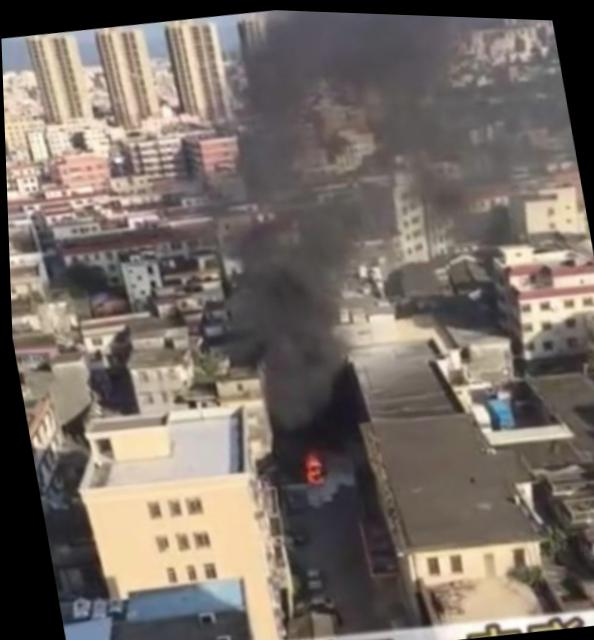fire: (300, 448, 326, 485)
